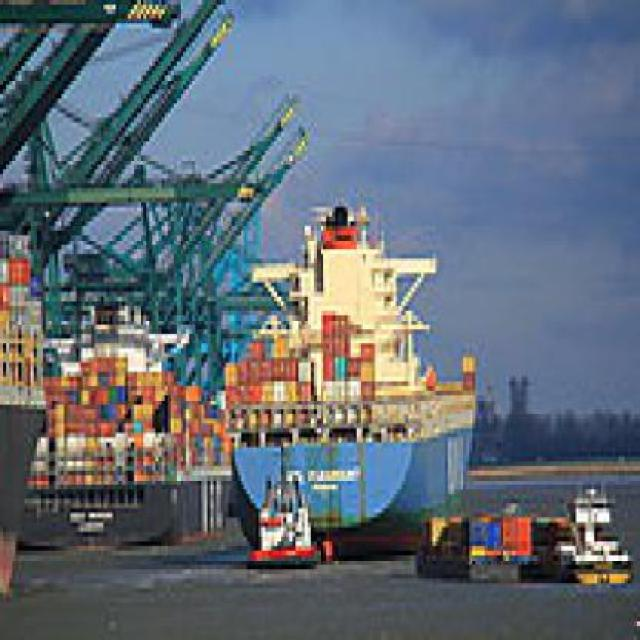container: (214, 189, 486, 551)
